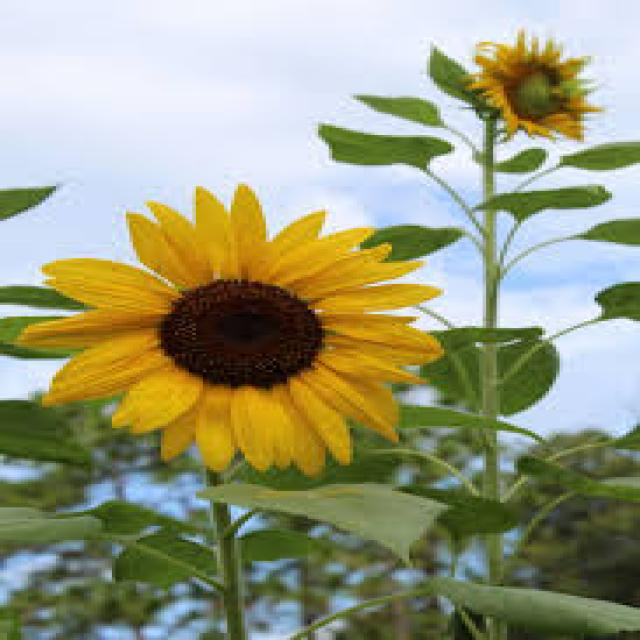sunflower: (18, 180, 454, 476), (442, 21, 610, 151)
